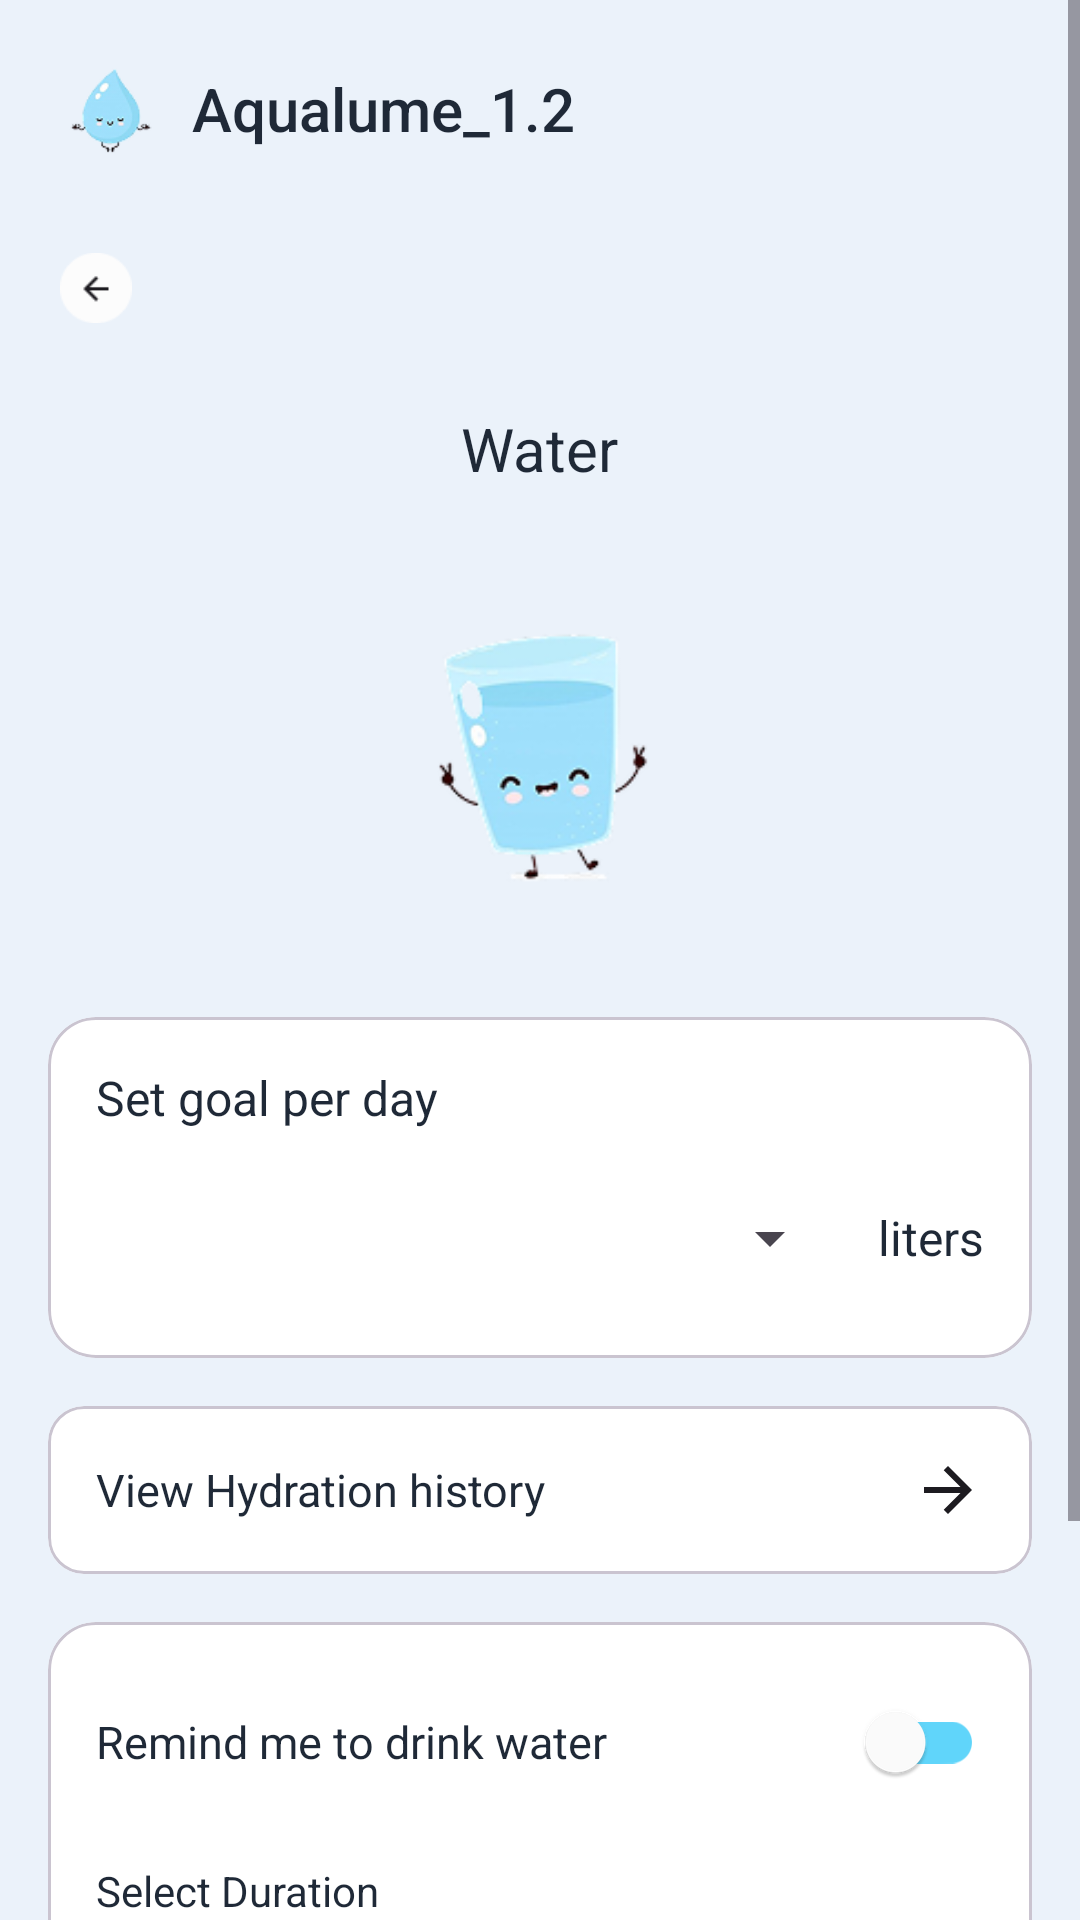

Icon click points for this 1080 × 1920 phone screenshot, format point (x, y):
arrow right: point (948, 1490)
Back: point (96, 288)
